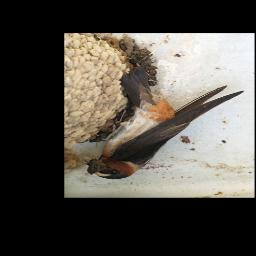Swallow: (87, 84, 246, 180)
